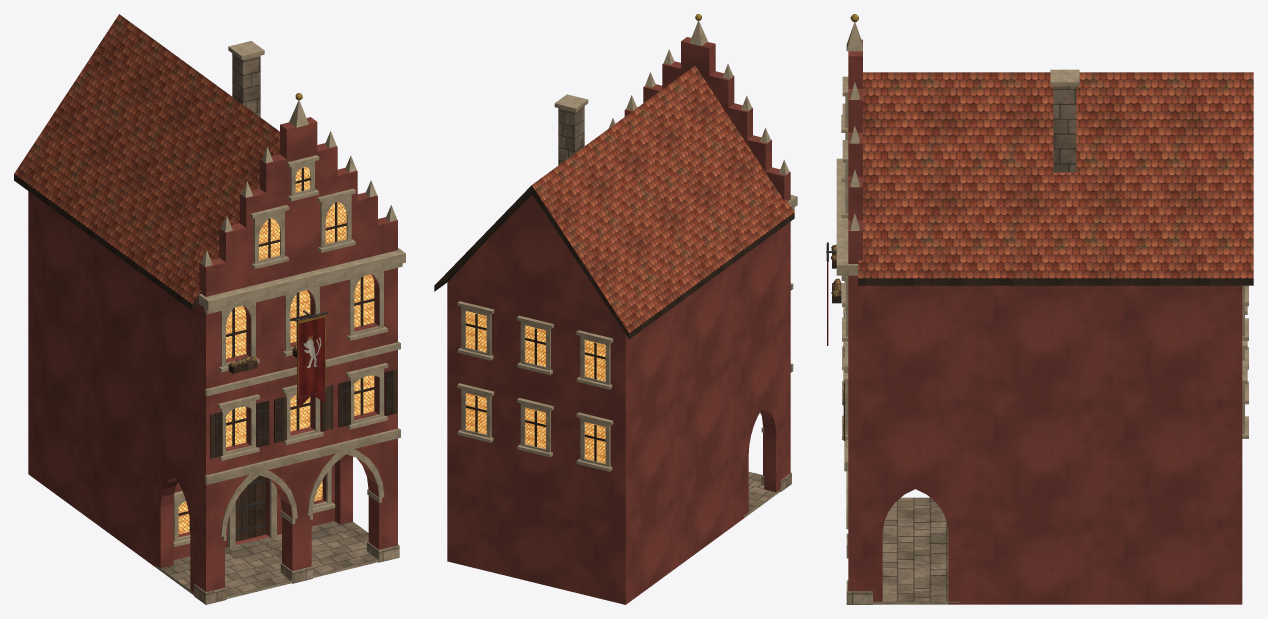
The model's file is house_burgher_c.gltf.
3 renders of one model, left to right at view 1: azimuth 30°, elevation 25°; view 2: azimuth 150°, elevation 25°; view 3: azimuth 270°, elevation 25°, orthographic. The views are drawn at different scales.
Parts seen in each view (by area): view 1: house_burgher_c_mesh, INT_door_house_burgher_c, INT_window_house_burgher_c_2, INT_window_house_burgher_c_0, INT_window_house_burgher_c_0_shutter_R, INT_window_house_burgher_c_2_shutter_R, INT_window_house_burgher_c_1, INT_window_house_burgher_c_2_shutter_L, INT_window_house_burgher_c_0_shutter_L, INT_window_house_burgher_c_1_shutter_L, INT_window_house_burgher_c_1_shutter_R; view 2: house_burgher_c_mesh; view 3: house_burgher_c_mesh.
Part boxes in pixels (x1,y1,x2,y2): house_burgher_c_mesh: (14,14,405,604); INT_door_house_burgher_c: (235,475,265,541); INT_window_house_burgher_c_2: (354,375,374,415); INT_window_house_burgher_c_0: (226,406,246,447); INT_window_house_burgher_c_0_shutter_R: (256,400,269,447); INT_window_house_burgher_c_2_shutter_R: (384,369,397,415); INT_window_house_burgher_c_1: (290,394,310,431); INT_window_house_burgher_c_2_shutter_L: (338,380,350,427); INT_window_house_burgher_c_0_shutter_L: (210,412,222,458); INT_window_house_burgher_c_1_shutter_L: (274,396,286,442); INT_window_house_burgher_c_1_shutter_R: (320,385,333,431); house_burgher_c_mesh: (434,14,797,604); house_burgher_c_mesh: (826,14,1253,604).
Size of what is drawn, in the model's own units: 8.2 by 18.09 by 13.02.
17 materials, 17 textured.
